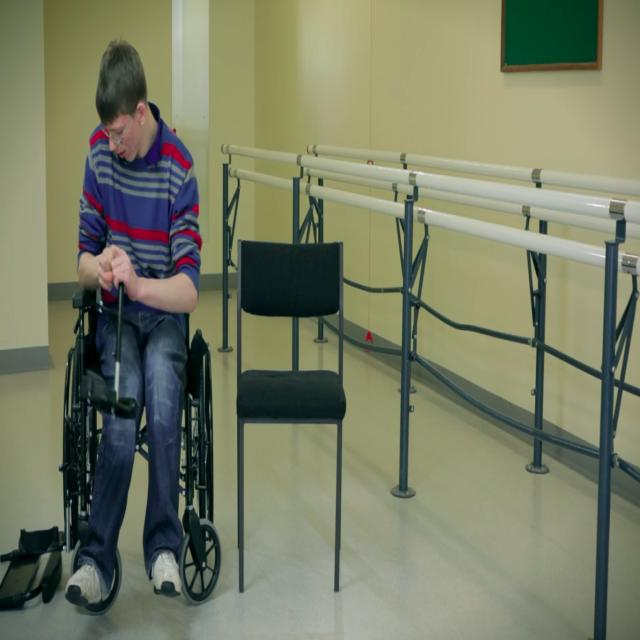wheelchairs: (57, 285, 223, 610)
